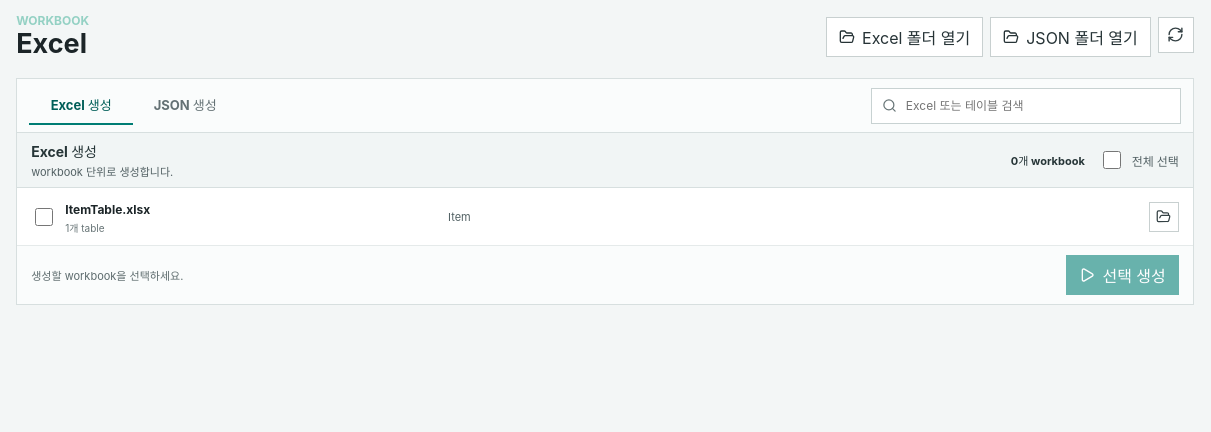
Test: ExcelScreen collision policy › does not write JSON when workbook input contains an empty required key
What coordinates should you click on to do the following:
click the tab "JSON 생성"
I would click on:
 (185, 106)
Its box is [133,86,237,125].
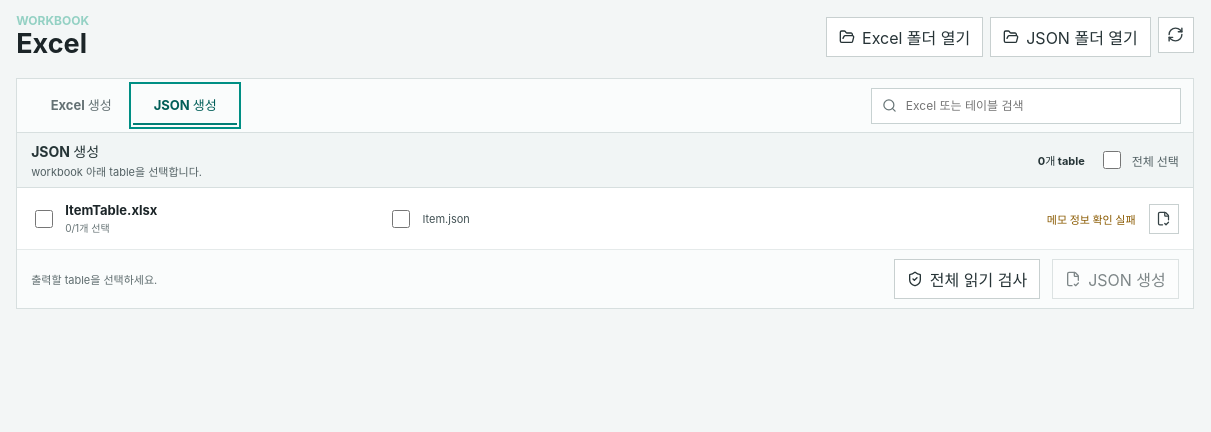
What coordinates should you click on to do the following:
click the checkbox named "ItemTable.xlsx Item JSON 테이블"
I would click on:
 (401, 219)
Its box is [392,210,410,228].
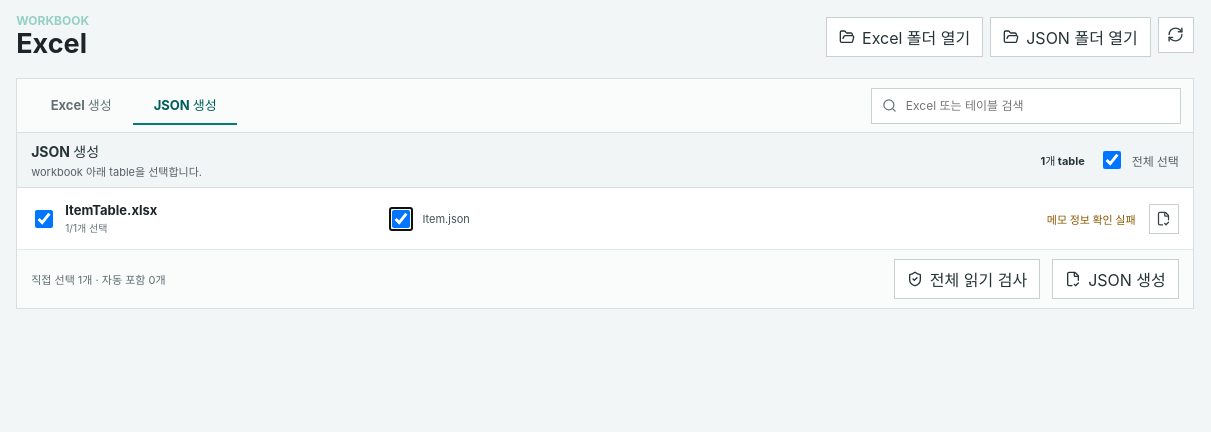
What coordinates should you click on to do the following:
click the button "JSON 생성"
I would click on:
 (1116, 279)
Its box is [1052,259,1179,299].
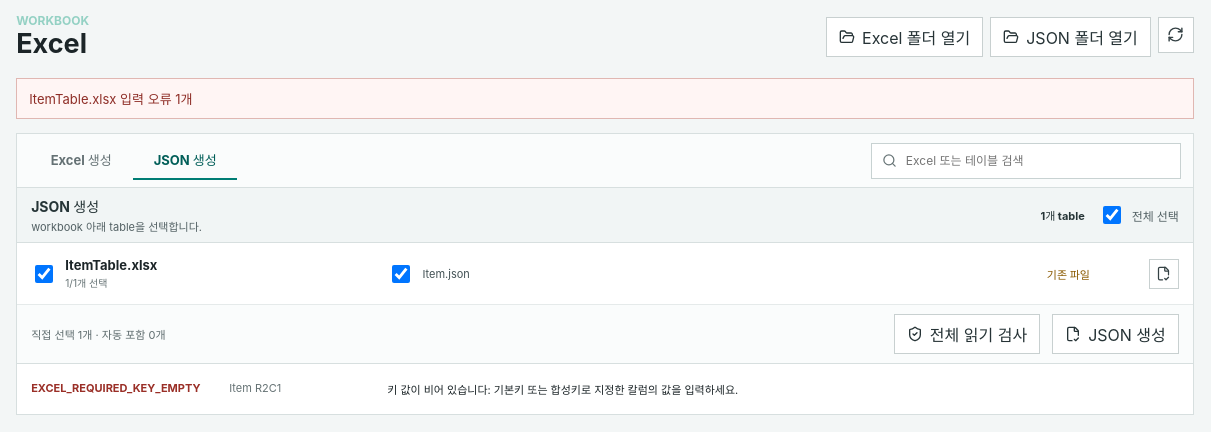
Expected: the text "EXCEL_REQUIRED_KEY_EMPTY" is shown, [31,381,221,397]
